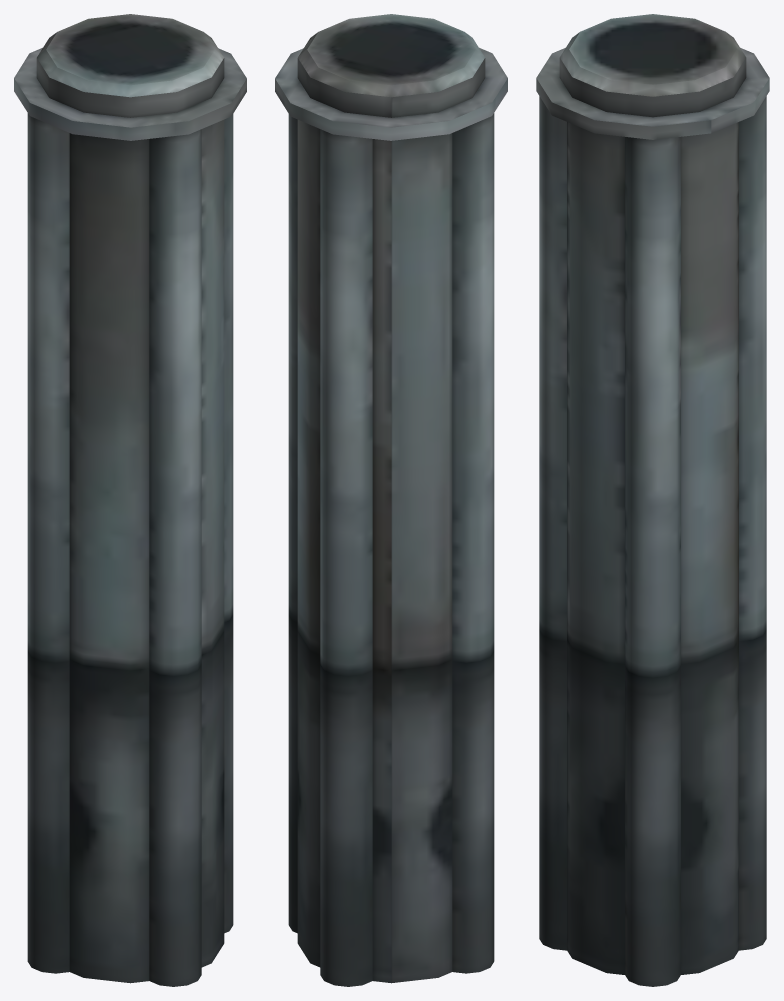
The picture shows the model from 3 angles, left to right: view 1: azimuth 30°, elevation 25°; view 2: azimuth 150°, elevation 25°; view 3: azimuth 270°, elevation 25°; orthographic projection.
Parts seen in each view (by area): view 1: body0_model0_lod0_mesh0; view 2: body0_model0_lod0_mesh0; view 3: body0_model0_lod0_mesh0.
Boxes of the visible parts, x1,y1,x2,y2 form: body0_model0_lod0_mesh0: (14,14,246,986); body0_model0_lod0_mesh0: (275,14,507,986); body0_model0_lod0_mesh0: (536,14,769,986).
Bounding box in the file's own units: 36.34 × 154 × 36.68.
Materials: 1 (1 with a texture image).
